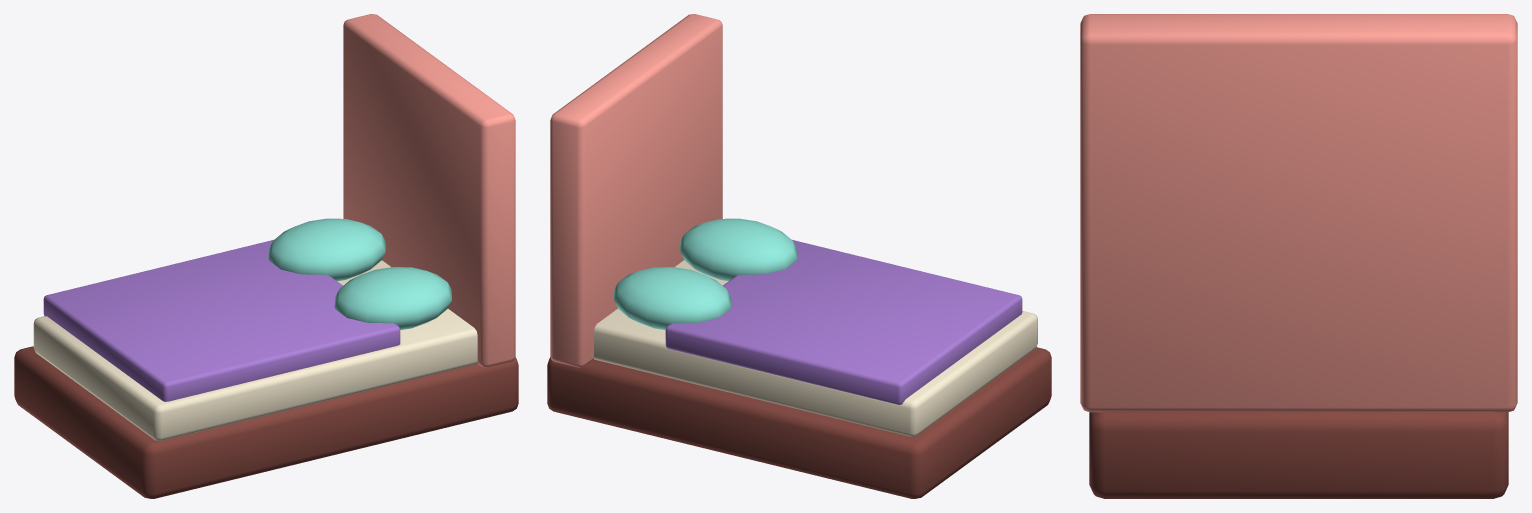
Rendered from r030_castle_bed_model_bed.glb.
The picture shows the model from 3 angles, left to right: view 1: azimuth 30°, elevation 25°; view 2: azimuth 150°, elevation 25°; view 3: azimuth 270°, elevation 25°; orthographic projection. The views are drawn at different scales.
Visible parts, largest first — view 1: r030_castle_bed_model_bed.001; view 2: r030_castle_bed_model_bed.001; view 3: r030_castle_bed_model_bed.001.
Part boxes in pixels (x1=…): r030_castle_bed_model_bed.001: x1=14, y1=14, x2=518, y2=498; r030_castle_bed_model_bed.001: x1=547, y1=14, x2=1051, y2=498; r030_castle_bed_model_bed.001: x1=1080, y1=14, x2=1517, y2=498.
Bounding box in the file's own units: 3.8 × 2.93 × 2.5.
